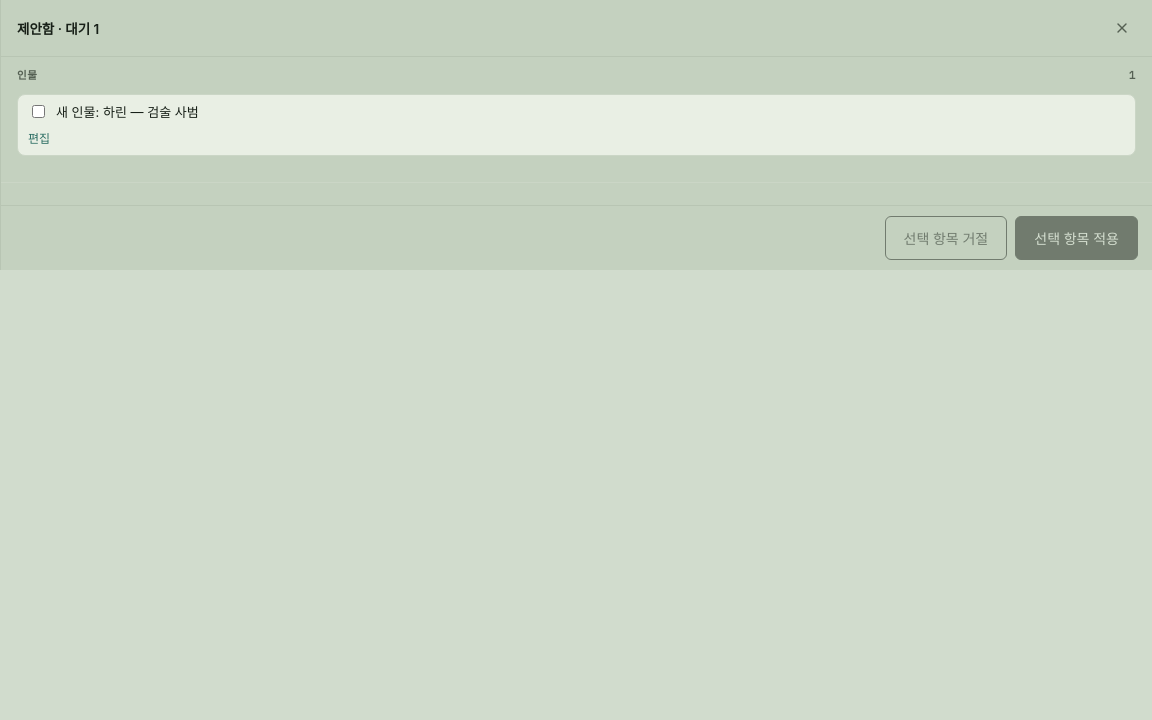
it: ProposalInbox › shows a failure on the item after a partial accept failure
The width and height of the screenshot is (1152, 720).
Expected: the text "새 인물: 하린 — 검술 사범" is shown, [56, 103, 199, 121]
Click the checkbox at (38, 112), box [32, 105, 45, 118]
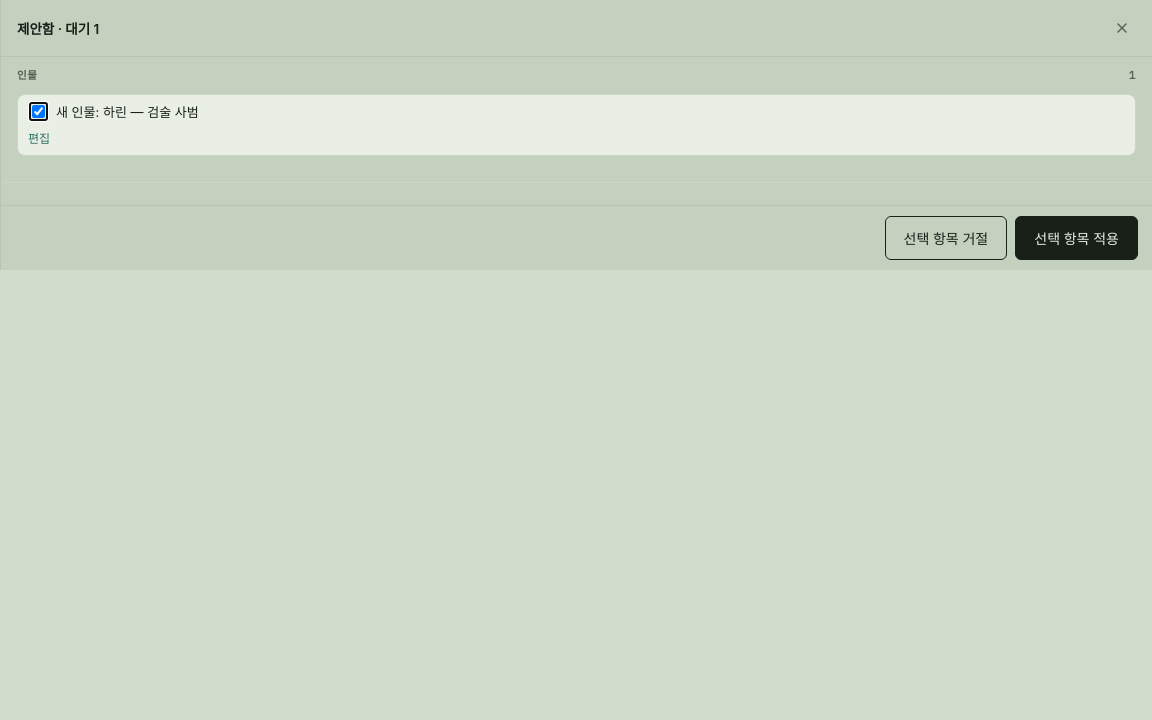
Click the button "선택 항목 적용" at (1077, 238), box [1015, 216, 1138, 260]
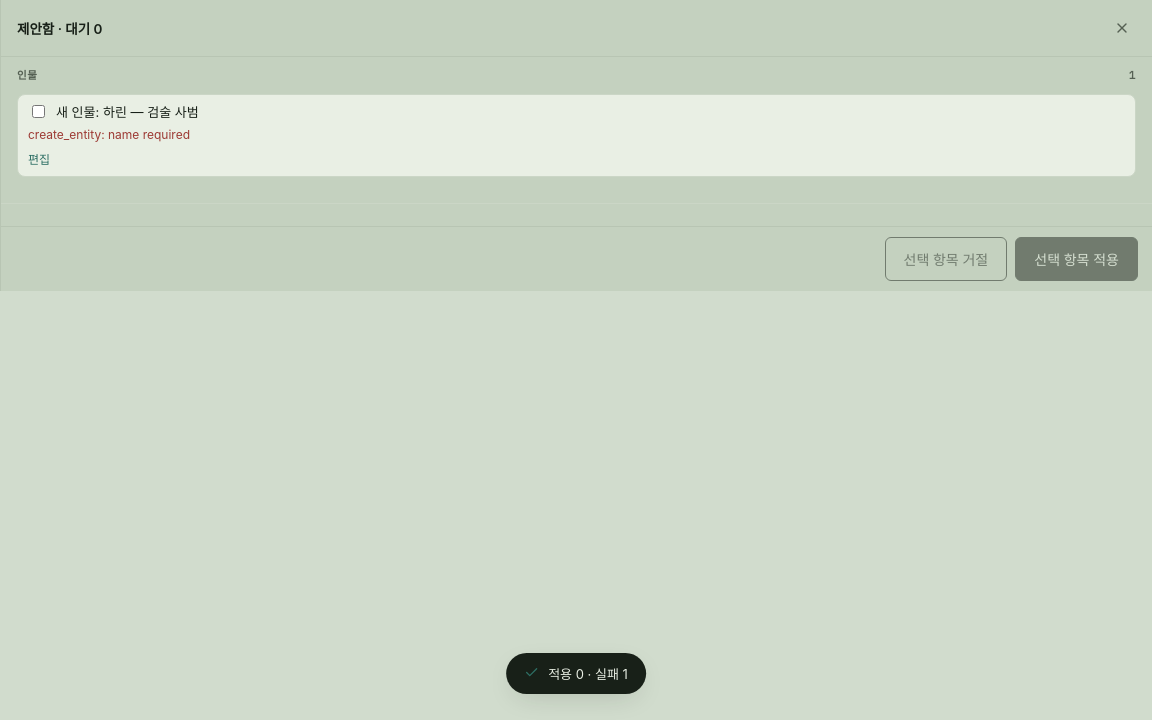
Expected: the text "create_entity: name required" is shown, [28, 127, 190, 142]
